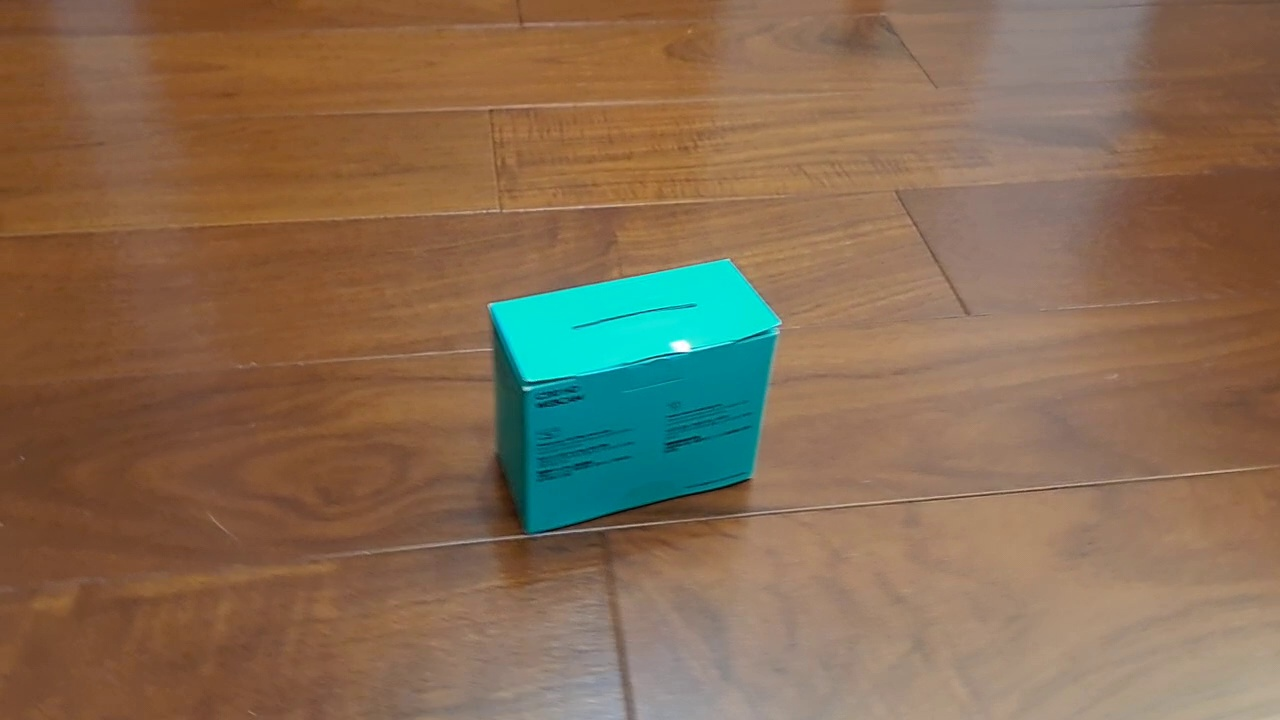webcam: (485, 257, 784, 537)
